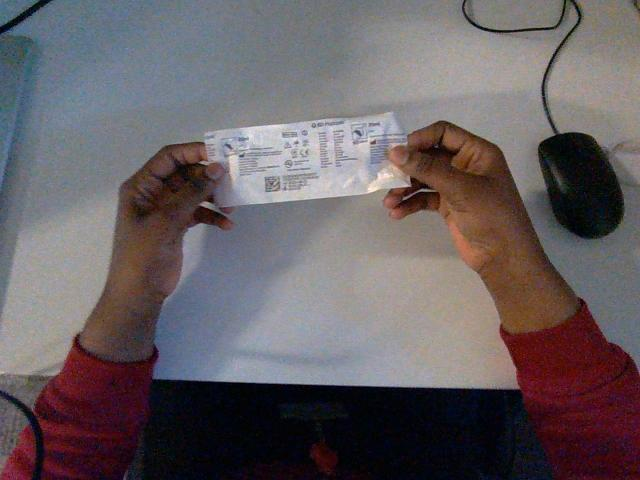syringe: (205, 113, 409, 206)
